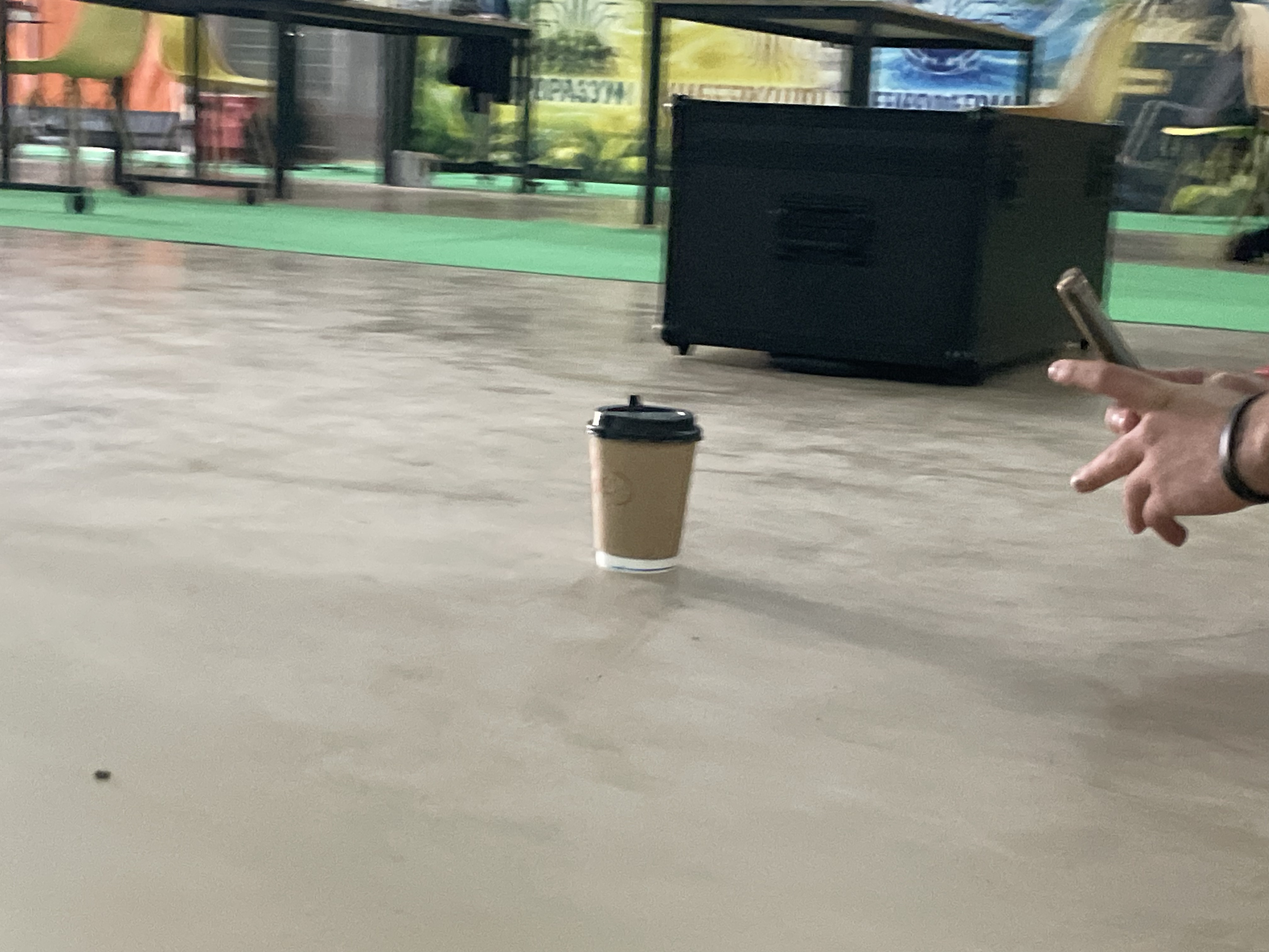cup: (584, 395, 703, 574)
